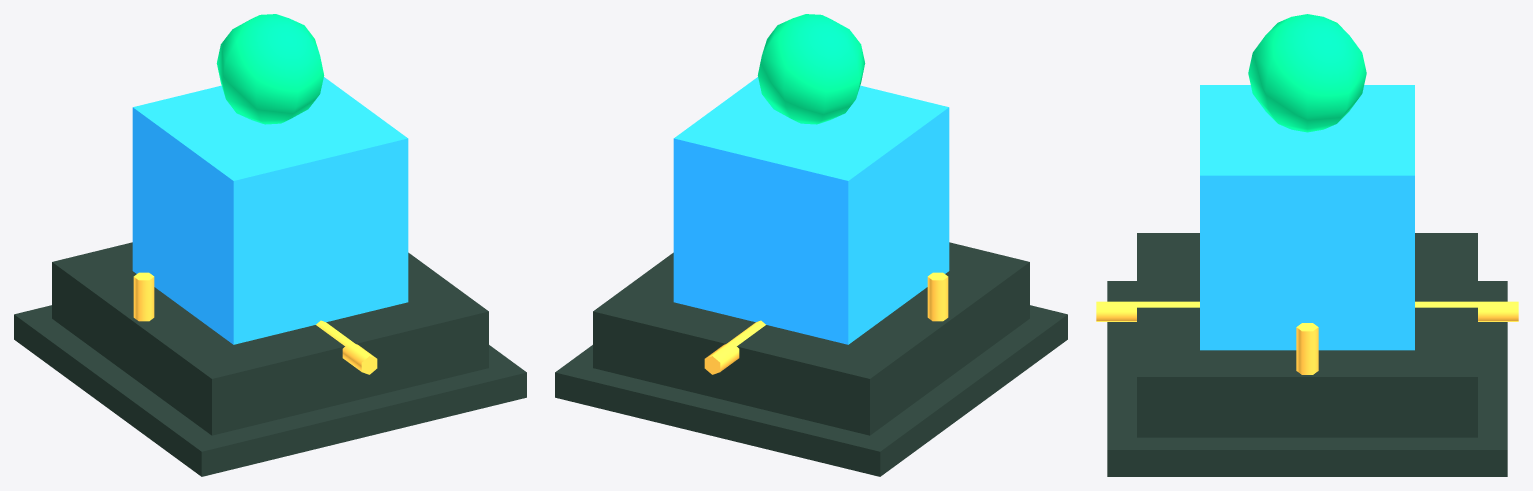
File: ai-grid-optimizer.glb
3 views of the same model, side by side, from view 1: azimuth 30°, elevation 25°; view 2: azimuth 150°, elevation 25°; view 3: azimuth 270°, elevation 25° (orthographic). The views are drawn at different scales.
Visible parts, largest first — view 1: pulse-ai-core, body-ai, base-footprint, pulse-ai-crown, spin-x-ai-satellite-front, spin-y-ai-satellite-left; view 2: pulse-ai-core, body-ai, base-footprint, pulse-ai-crown, spin-x-ai-satellite-back, spin-y-ai-satellite-left; view 3: pulse-ai-core, body-ai, base-footprint, pulse-ai-crown, spin-x-ai-satellite-back, spin-x-ai-satellite-front, spin-y-ai-satellite-right.
Part boxes in pixels (x1,y1,x2,y2): pulse-ai-core: [132, 77, 408, 344]; body-ai: [52, 242, 488, 435]; base-footprint: [14, 305, 526, 476]; pulse-ai-crown: [216, 14, 324, 124]; spin-x-ai-satellite-front: [316, 320, 377, 374]; spin-y-ai-satellite-left: [133, 272, 154, 321]; pulse-ai-core: [673, 77, 949, 344]; body-ai: [593, 242, 1029, 435]; base-footprint: [555, 305, 1067, 476]; pulse-ai-crown: [757, 14, 865, 124]; spin-x-ai-satellite-back: [704, 320, 765, 374]; spin-y-ai-satellite-left: [927, 272, 948, 321]; pulse-ai-core: [1200, 85, 1414, 350]; body-ai: [1137, 233, 1477, 437]; base-footprint: [1107, 281, 1507, 476]; pulse-ai-crown: [1248, 14, 1366, 132]; spin-x-ai-satellite-back: [1415, 301, 1518, 321]; spin-x-ai-satellite-front: [1096, 301, 1199, 321]; spin-y-ai-satellite-right: [1296, 323, 1318, 374].
Bounding box in the file's own units: 1.08 × 1.11 × 1.14.
